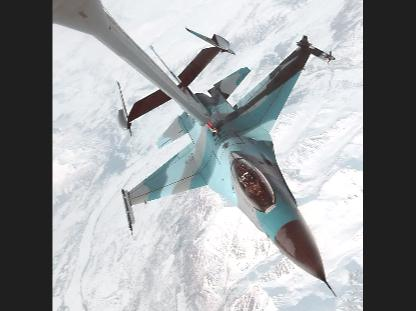F14: (120, 34, 336, 298)
